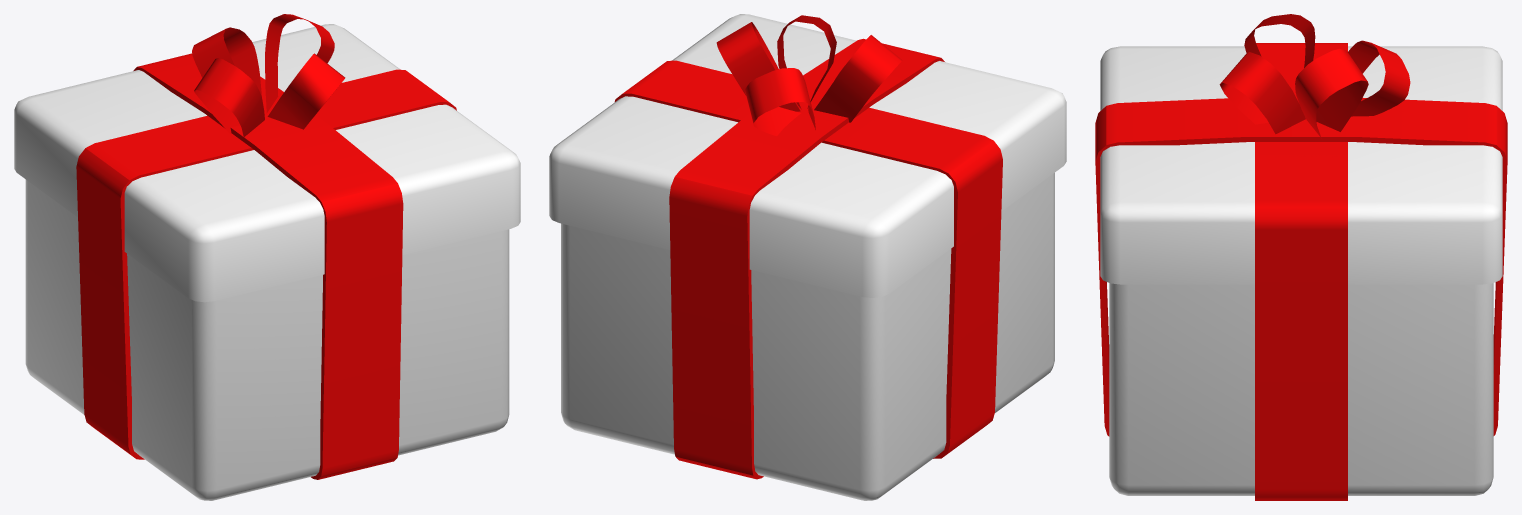
Rendered from giftBox_01.fbx.
3 views of the same model, side by side, from view 1: azimuth 30°, elevation 25°; view 2: azimuth 150°, elevation 25°; view 3: azimuth 270°, elevation 25° (orthographic). The views are drawn at different scales.
Visible parts, largest first — view 1: giftBox_01; view 2: giftBox_01; view 3: giftBox_01.
Part boxes in pixels (x1,y1,x2,y2): giftBox_01: (14, 14, 520, 500); giftBox_01: (549, 14, 1066, 500); giftBox_01: (1095, 14, 1507, 500).
Bounding box in the file's own units: 3.14 × 3.32 × 3.14.
Materials: 1 (1 with a texture image).
